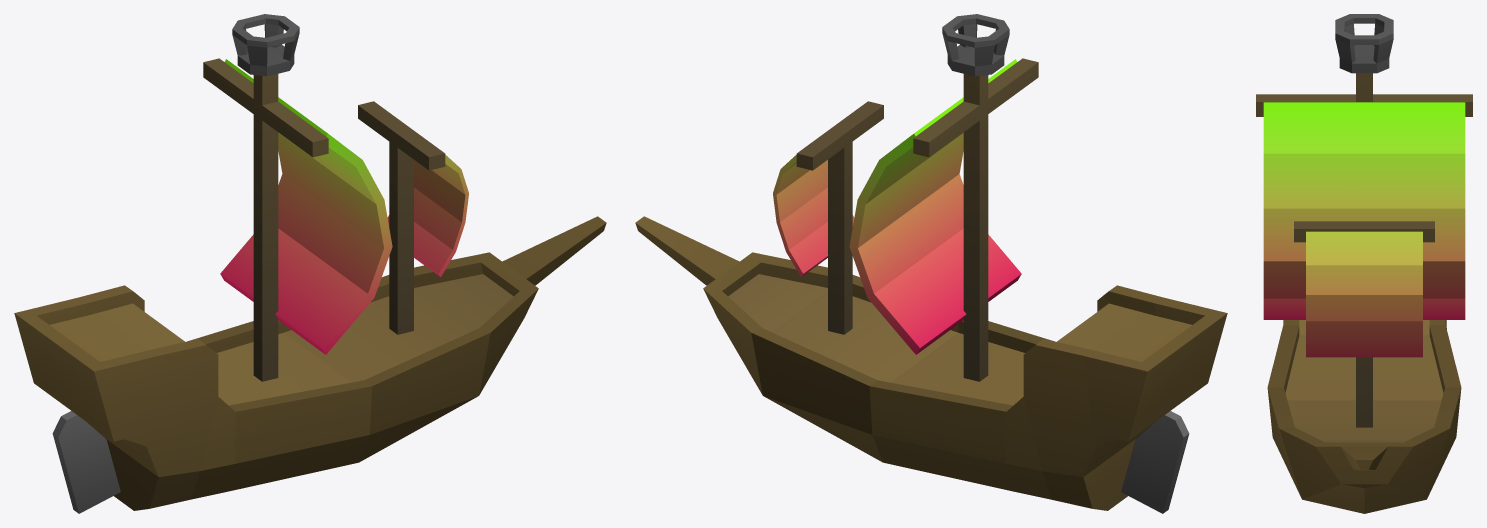
The model's file is Boat.fbx.
3 views of the same model, side by side, from view 1: azimuth 30°, elevation 25°; view 2: azimuth 150°, elevation 25°; view 3: azimuth 270°, elevation 25° (orthographic).
Visible parts, largest first — view 1: Boat; view 2: Boat; view 3: Boat.
Boxes of the visible parts, x1=… form: Boat: x1=14, y1=14, x2=606, y2=513; Boat: x1=635, y1=14, x2=1227, y2=513; Boat: x1=1256, y1=14, x2=1472, y2=513.
Bounding box in the file's own units: 1604 × 1224 × 555.
